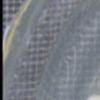white: (87, 93, 100, 100)
